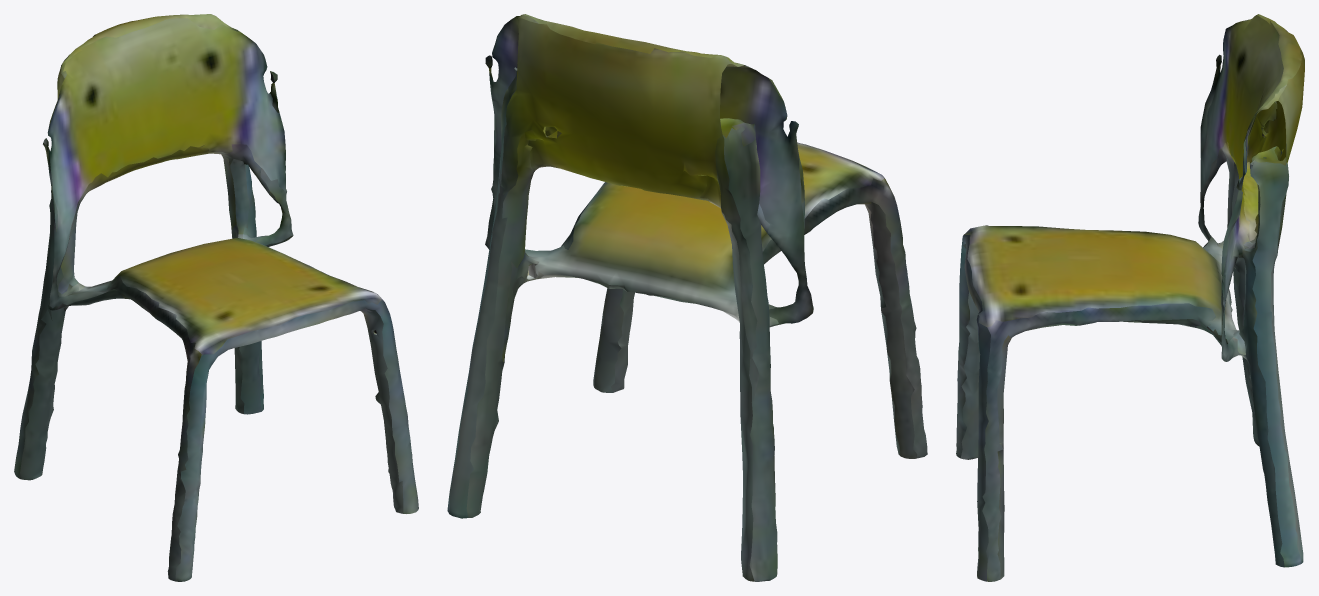
The picture shows the model from 3 angles, left to right: view 1: azimuth 30°, elevation 25°; view 2: azimuth 150°, elevation 25°; view 3: azimuth 270°, elevation 25°; orthographic projection. The views are drawn at different scales.
Visible parts, largest first — view 1: world; view 2: world; view 3: world.
Part boxes in pixels (x1,y1,x2,y2): world: (14, 14, 418, 581); world: (447, 14, 927, 581); world: (956, 14, 1304, 581).
Size of the model in its own units: 0.2512 by 0.3708 by 0.2555.
Materials: 1 (1 with a texture image).
